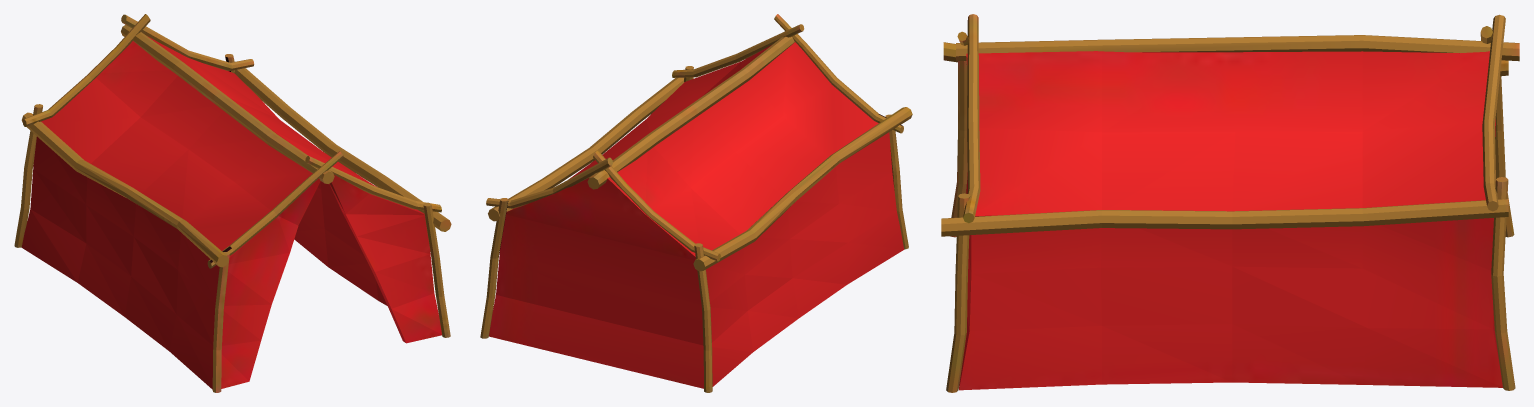
File: tent_ridge.glb
The picture shows the model from 3 angles, left to right: view 1: azimuth 30°, elevation 25°; view 2: azimuth 150°, elevation 25°; view 3: azimuth 270°, elevation 25°; orthographic projection. The views are drawn at different scales.
Parts seen in each view (by area): view 1: tent_ridge; view 2: tent_ridge; view 3: tent_ridge.
Part boxes in pixels (box(x1,y1,x2,y2)): tent_ridge: box(14, 14, 451, 392); tent_ridge: box(480, 14, 912, 392); tent_ridge: box(941, 14, 1519, 392).
Bounding box in the file's own units: 3.61 × 3.05 × 5.48.
1 material, 1 textured.
